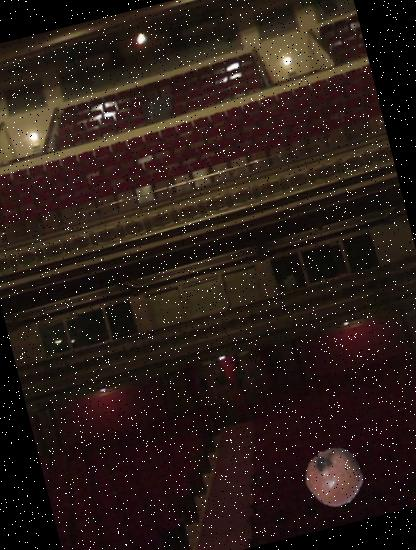Pomegranate: (300, 442, 370, 512)
